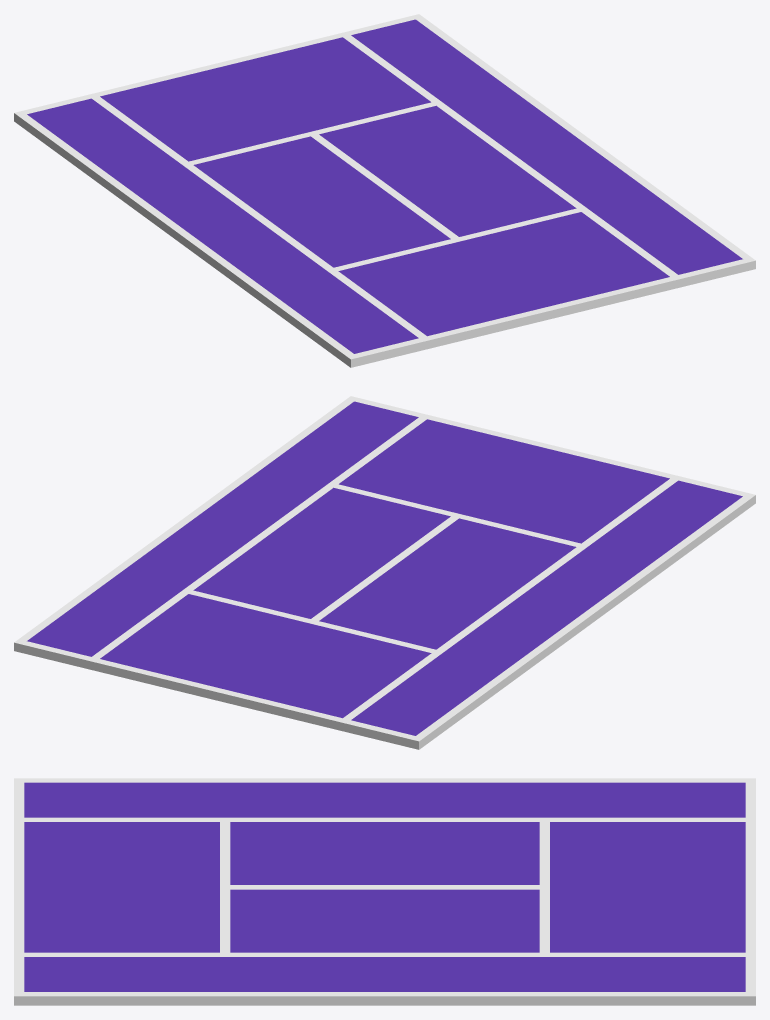
Rendered from Court6.fbx.
The picture shows the model from 3 angles, top to bottom: view 1: azimuth 30°, elevation 25°; view 2: azimuth 150°, elevation 25°; view 3: azimuth 270°, elevation 25°; orthographic projection. The views are drawn at different scales.
Parts seen in each view (by area): view 1: mergedBlocks; view 2: mergedBlocks; view 3: mergedBlocks.
Boxes of the visible parts, box(x1,y1,x2,y2) form: mergedBlocks: box(14, 14, 755, 367); mergedBlocks: box(14, 396, 755, 749); mergedBlocks: box(14, 778, 755, 1005).
Bounding box in the file's own units: 50 × 1 × 72.
